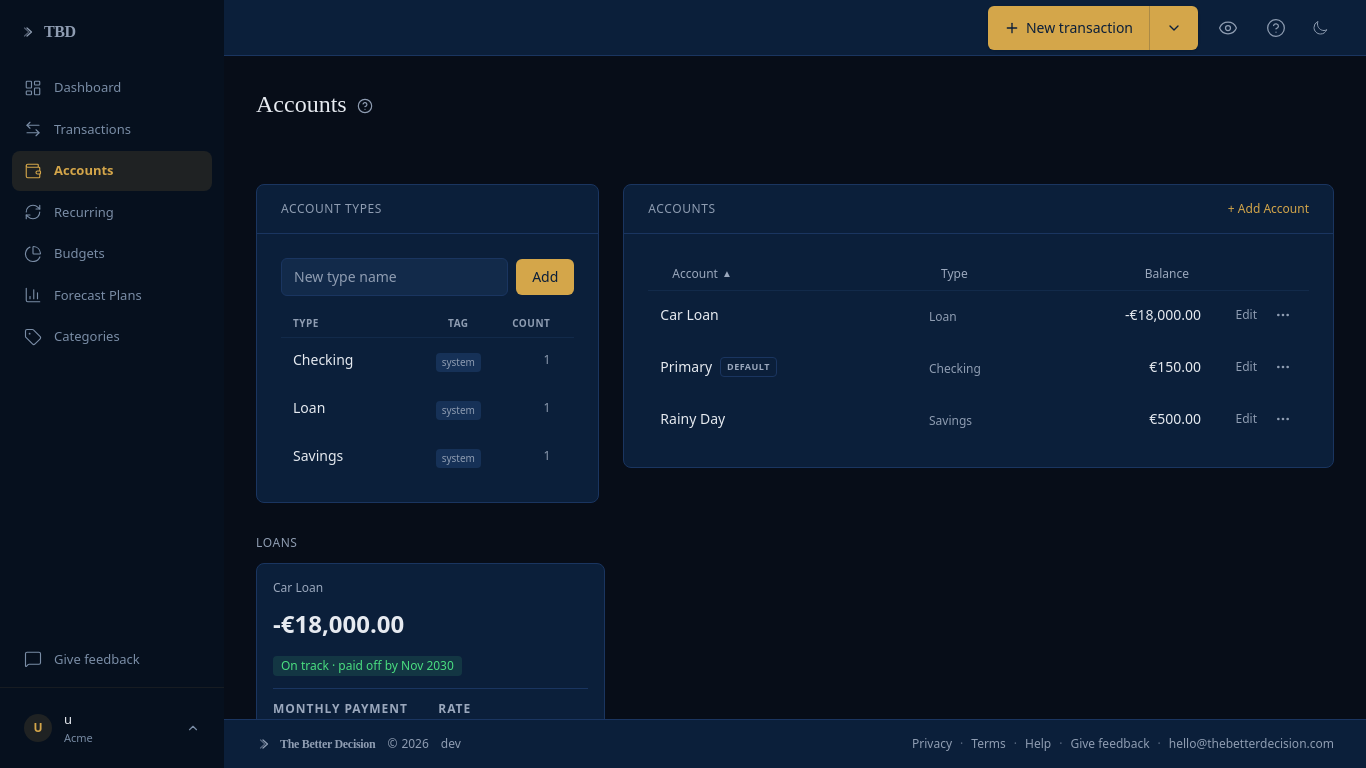
Test: Loan Model — form fields › edit row shows the five loan fields and the Paid from picker
Click the 1st button "Edit " at (1246, 315), box [1236, 307, 1257, 323]
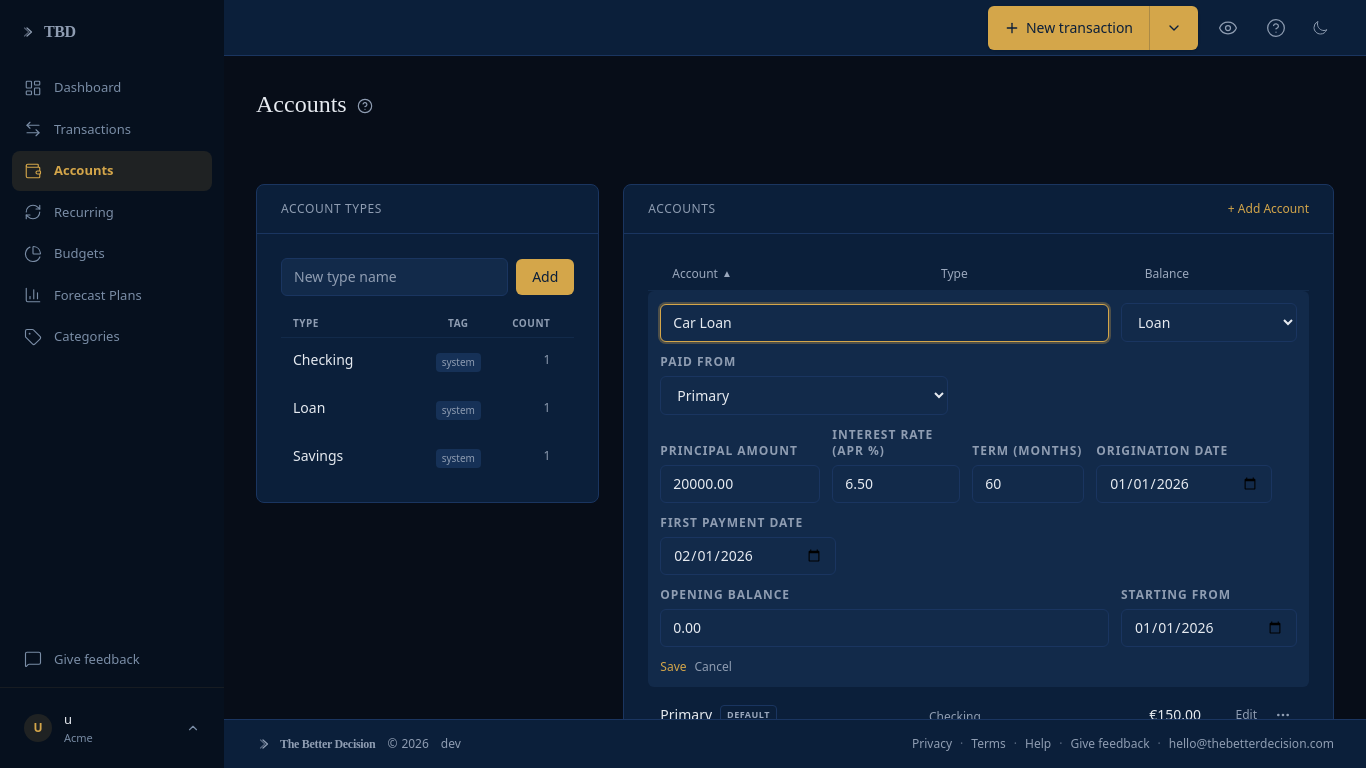
expect the number field labelled "Principal amount" is shown: met, box [660, 465, 820, 503]
expect the number field labelled "Interest rate (APR %)" is shown: met, box [832, 465, 960, 503]
expect the number field labelled "Term (months)" is shown: met, box [972, 465, 1084, 503]
